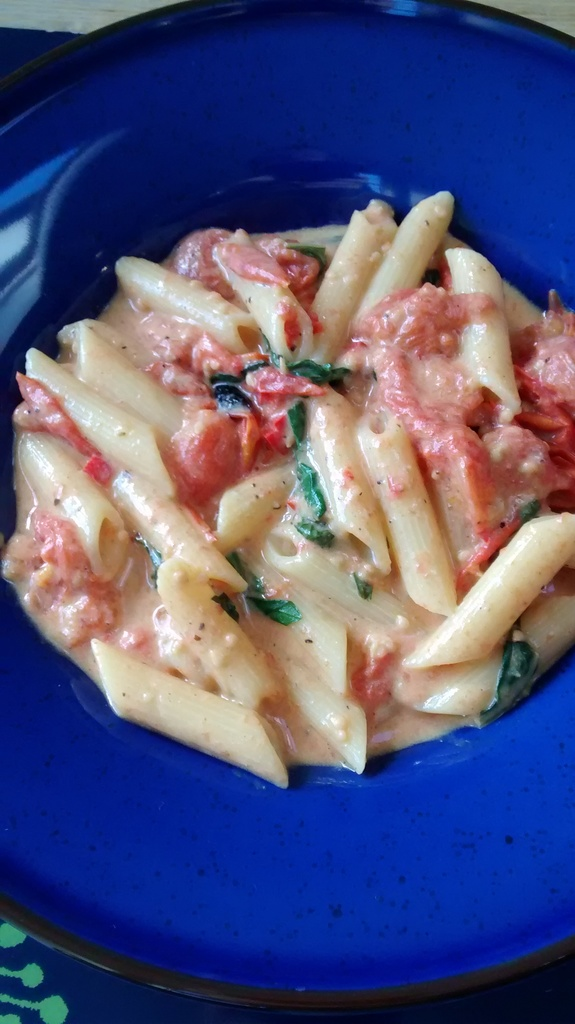pasta: (24, 125, 575, 823)
